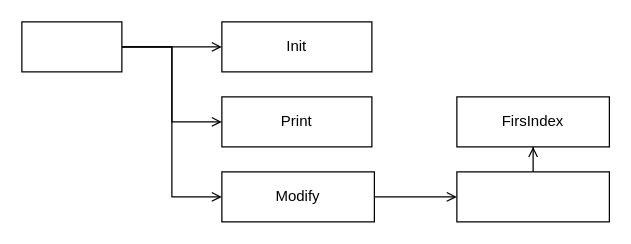
The diagram is 631 pixels wide and 244 high, and some of its shapes have lost their labels. Here are the shapes that lost their labels. From the top down, the centre of each, then its label:
the point at 71,46: main()
the point at 532,196: IndexMin
